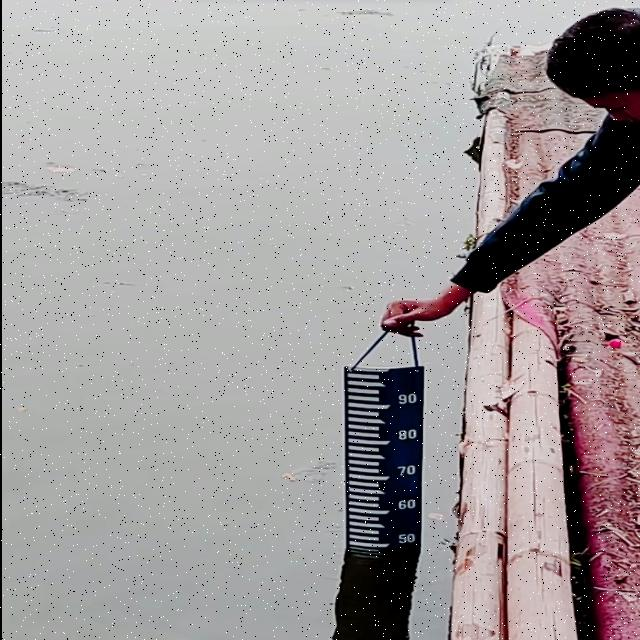50: (398, 532, 416, 544)
60: (398, 498, 416, 510)
70: (396, 464, 416, 476)
80: (396, 428, 418, 442)
90: (396, 392, 419, 405)
staff: (344, 364, 424, 550)
